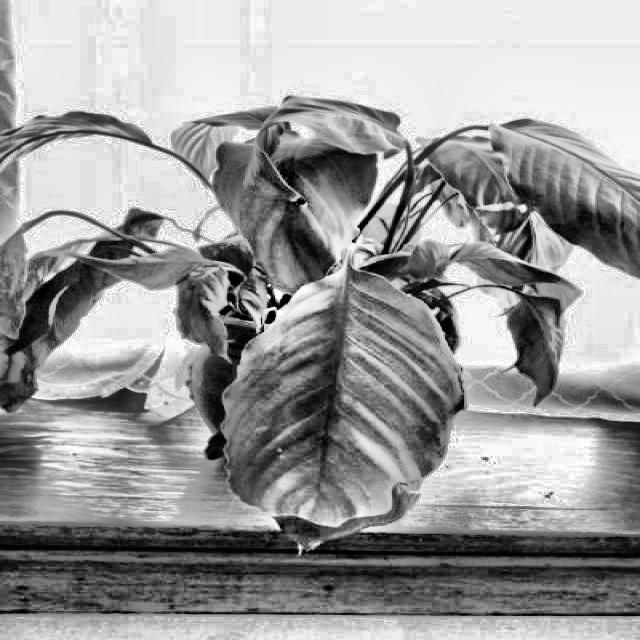plants: (0, 86, 639, 562), (255, 270, 476, 570), (0, 215, 185, 436)
